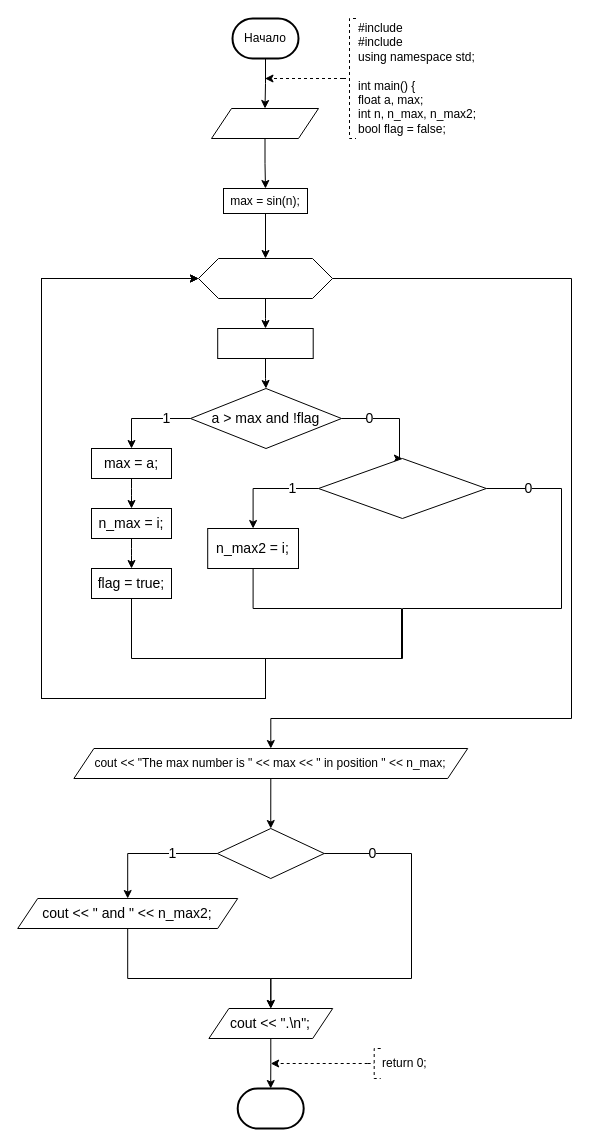
Image size: 597x1146. Some labels were removed from this diagram. The centre of each missing label's shape, as x and y in pixels:
"a = sin(n + i/n);" belongs at pixel 265 343.
"a == max and flag" belongs at pixel 402 488.
"cin >> n;" belongs at pixel 264 123.
"flag" belongs at pixel 270 853.
"int i = 1; i <= n; ++i" belongs at pixel 265 278.
"Конец" belongs at pixel 270 1108.
